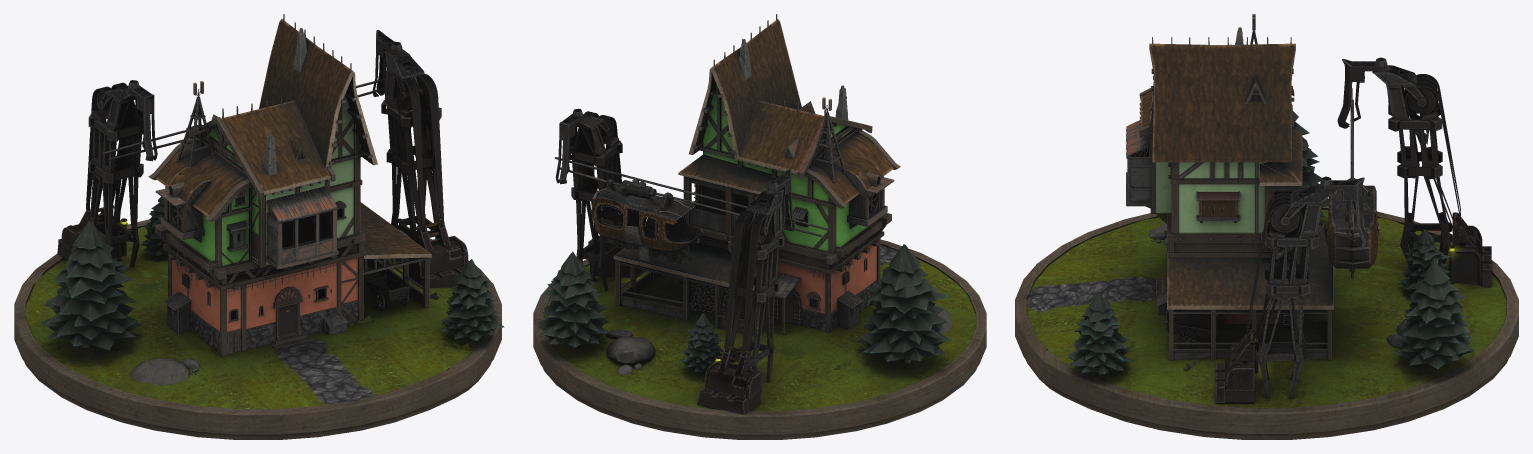
File: housestation.glb
3 renders of one model, left to right at view 1: azimuth 30°, elevation 25°; view 2: azimuth 150°, elevation 25°; view 3: azimuth 270°, elevation 25°, orthographic. The views are drawn at different scales.
Visible parts, largest first — view 1: podstawa, domek, support; view 2: podstawa, domek, support, karotka; view 3: podstawa, domek, support, karotka.
Boxes of the visible parts, <box> form: podstawa: <box>14,196,504,439</box>; domek: <box>148,14,431,356</box>; support: <box>57,30,468,313</box>; podstawa: <box>533,184,986,439</box>; domek: <box>613,14,900,335</box>; support: <box>555,108,828,414</box>; karotka: <box>591,179,703,264</box>; podstawa: <box>1015,111,1518,439</box>; domek: <box>1126,14,1333,360</box>; support: <box>1165,57,1491,403</box>; karotka: <box>1323,177,1379,279</box>.
Bounding box in the file's own units: 2.73 × 1.93 × 2.73.
Materials: 4 (4 with a texture image).
